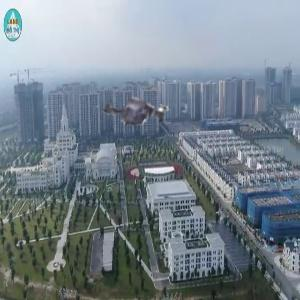drone: (91, 60, 186, 155)
